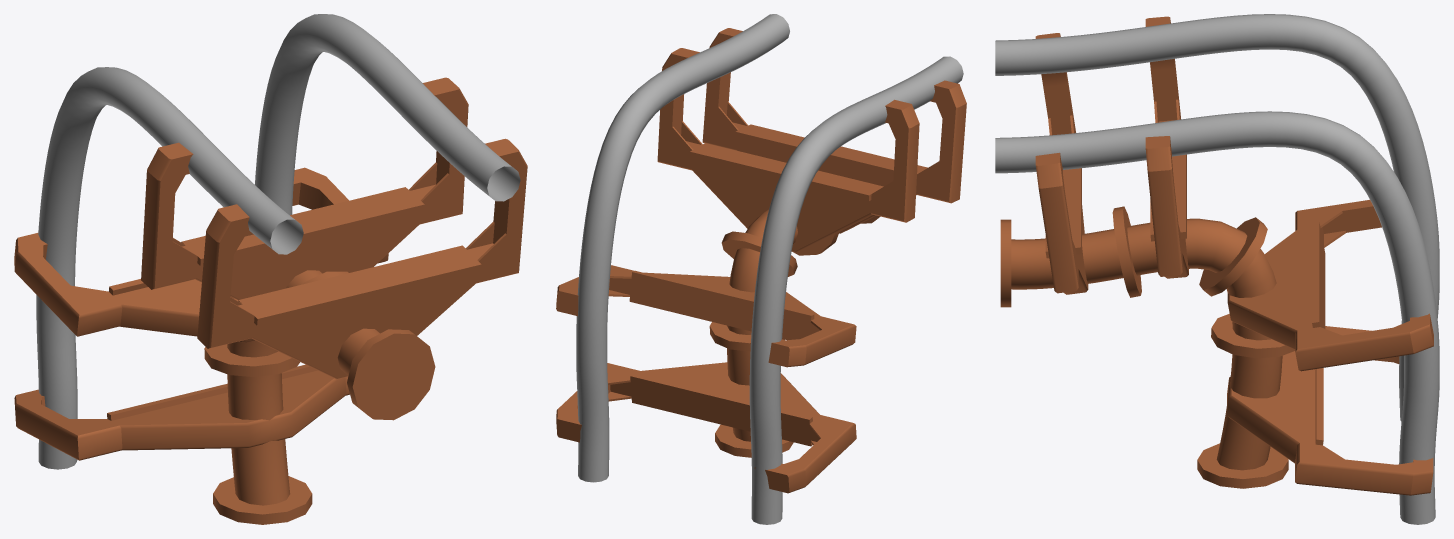
Rendered from rail 90.fbx.
3 renders of one model, left to right at view 1: azimuth 30°, elevation 25°; view 2: azimuth 150°, elevation 25°; view 3: azimuth 270°, elevation 25°, orthographic. The views are drawn at different scales.
Parts seen in each view (by area): view 1: polySurface90; view 2: polySurface90; view 3: polySurface90.
Part boxes in pixels (left/top/right/bottom): polySurface90: left=14, top=14, right=527, bottom=524; polySurface90: left=556, top=14, right=966, bottom=524; polySurface90: left=995, top=14, right=1439, bottom=524.
Bounding box in the file's own units: 7.24 × 9.76 × 9.72.
